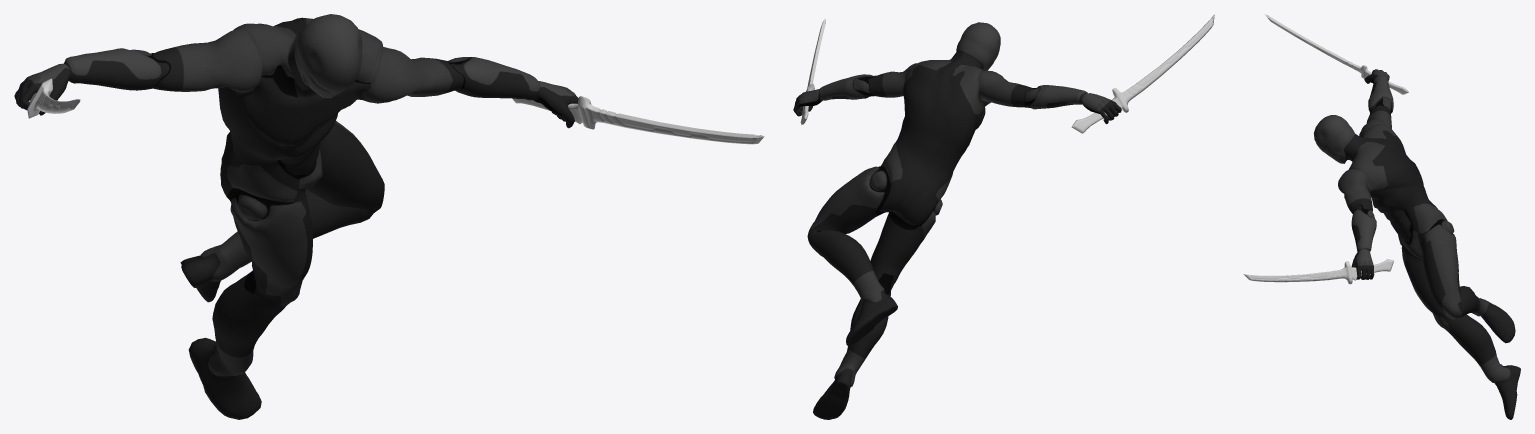
3 views of the same model, side by side, from view 1: azimuth 30°, elevation 25°; view 2: azimuth 150°, elevation 25°; view 3: azimuth 270°, elevation 25° (orthographic). The views are drawn at different scales.
Parts seen in each view (by area): view 1: Cyborg_Ninja_Killer, Sword_l, Sword_l001; view 2: Cyborg_Ninja_Killer, Sword_l001, Sword_l; view 3: Cyborg_Ninja_Killer, Sword_l, Sword_l001.
Boxes of the visible parts, bbox=[...] form: Cyborg_Ninja_Killer: bbox=[14, 14, 578, 419]; Sword_l: bbox=[512, 96, 764, 144]; Sword_l001: bbox=[27, 78, 80, 118]; Cyborg_Ninja_Killer: bbox=[793, 22, 1121, 419]; Sword_l001: bbox=[1071, 14, 1214, 133]; Sword_l: bbox=[800, 18, 825, 124]; Cyborg_Ninja_Killer: bbox=[1313, 69, 1520, 419]; Sword_l: bbox=[1243, 259, 1393, 284]; Sword_l001: bbox=[1264, 14, 1408, 94].
Bounding box in the file's own units: 211 × 180 × 149.
